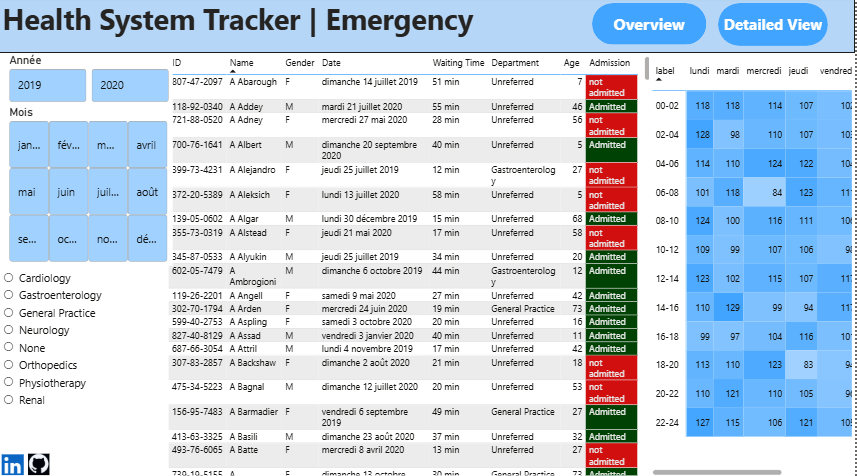

The dashboard page shown, as its layout file describes it:
{"tool":"powerbi","page":{"name":" Detailed View","canvas":[1280,720],"ordinal":0},"visuals":[{"type":"textbox","box":[0,0,1278.7,85.1],"z":0},{"type":"actionButton","box":[885.3,11.2,171,62.3],"z":1000},{"type":"actionButton","box":[1074,10.5,164.3,64.2],"z":2000},{"type":"tableEx","fields":{"Values":["Hospital ER.patient_id","Hospital ER.Name","Hospital ER.patient_gender","Hospital ER.date","Hospital ER.Waiting Time","Hospital ER.department_referral - Copier","Hospital ER.patient_age","Hospital ER.patient_admin_flag"]},"box":[247.7,84.7,730.3,636],"z":3000},{"type":"advancedSlicerVisual","fields":{"Values":["Dim_Date.Date.Variation.Hiérarchie de dates.Année"]},"box":[11.2,84.7,249.3,78.3],"z":4000},{"type":"advancedSlicerVisual","fields":{"Values":["Dim_Date.Date.Variation.Hiérarchie de dates.Mois"]},"box":[11.2,163,249.3,239.7],"z":5000},{"type":"listSlicer","fields":{"Values":["Hospital ER.department_referral"]},"box":[0,402.7,247.7,220.5],"z":6000},{"type":"pivotTable","fields":{"Rows":["Hospital ER.Plage Horaire"],"Columns":["Dim_Date.Weekday"],"Values":["Hospital ER.No. of patients"]},"box":[971.6,84.7,308.4,636],"z":7000},{"type":"actionButton","box":[0,680.3,40.3,40.3],"z":8000},{"type":"actionButton","box":[40.3,680.3,38.6,40.3],"z":9000}]}

Visuals, with their boxes in screenshot pixels (x1, y1, x2, y2), scaled from the page's 1280x720 canvas onto the 857x476 screenshot:
textbox: locate(0, 0, 856, 56)
actionButton: locate(593, 7, 707, 49)
actionButton: locate(719, 7, 829, 49)
tableEx - Hospital ER.patient_id x Hospital ER.Name: locate(166, 56, 655, 475)
advancedSlicerVisual - Dim_Date.Date.Variation.Hiérarchie de dates.Année: locate(7, 56, 174, 108)
advancedSlicerVisual - Dim_Date.Date.Variation.Hiérarchie de dates.Mois: locate(7, 108, 174, 266)
listSlicer - Hospital ER.department_referral: locate(0, 266, 166, 412)
pivotTable - Hospital ER.Plage Horaire x Dim_Date.Weekday: locate(651, 56, 856, 475)
actionButton: locate(0, 450, 27, 475)
actionButton: locate(27, 450, 53, 475)
